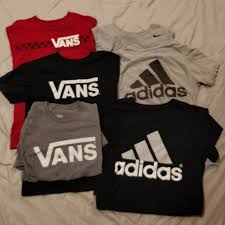adidas: (111, 130, 183, 182), (120, 57, 188, 99)
vans: (33, 135, 100, 168), (47, 74, 101, 99), (49, 35, 82, 48)
